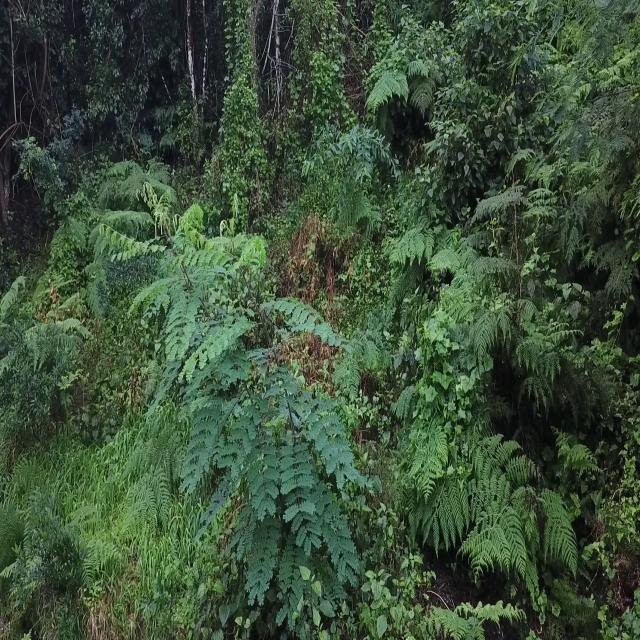Mysore-Thorn-Weed: (149, 264, 366, 559)
